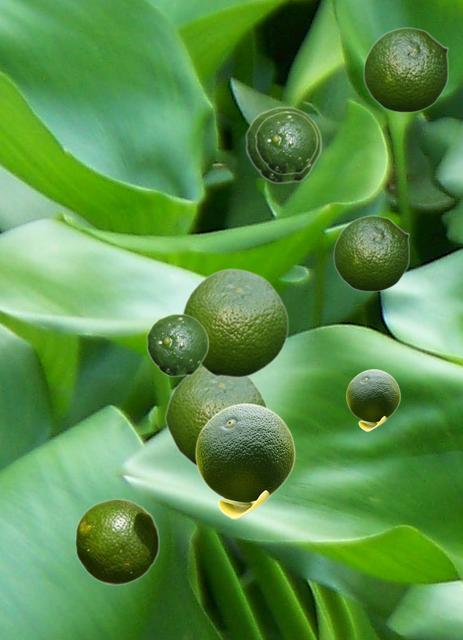calamansi: (180, 267, 288, 377), (195, 403, 294, 518), (164, 368, 268, 467), (74, 498, 159, 584), (363, 27, 448, 112), (245, 106, 321, 183), (333, 215, 409, 291), (255, 111, 317, 174), (146, 313, 208, 376), (346, 369, 399, 430)
